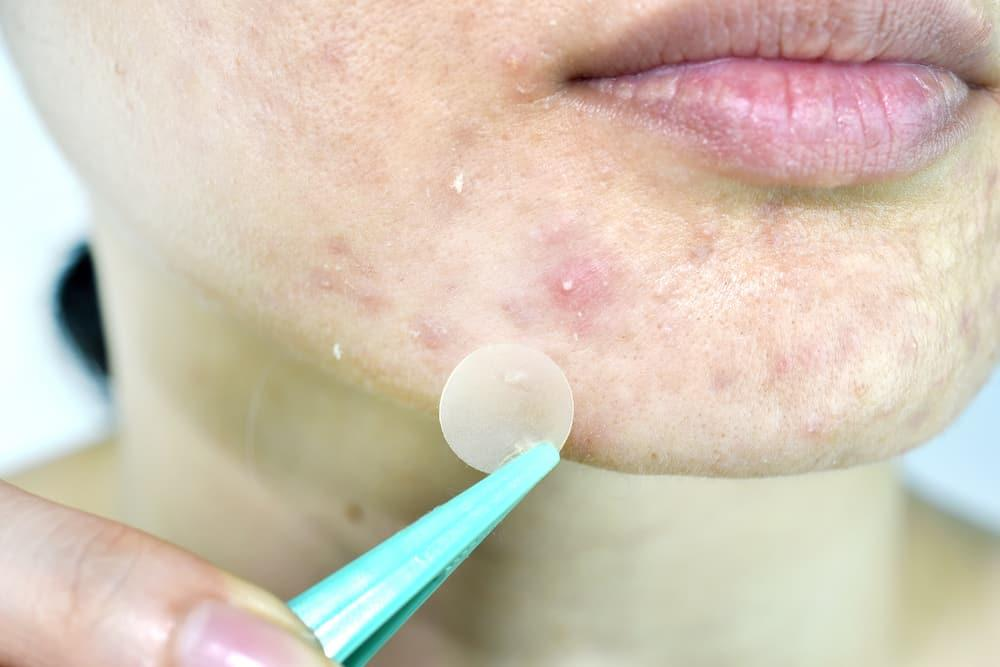Acne: (319, 27, 1000, 484)
